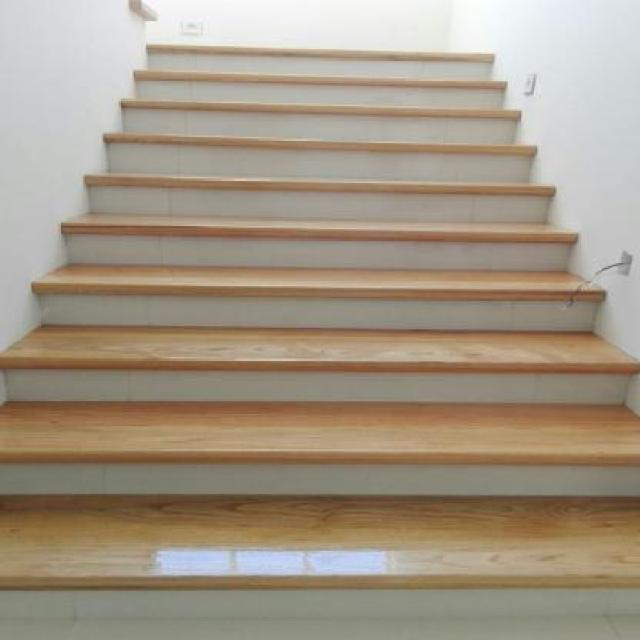stair: (10, 3, 639, 606)
